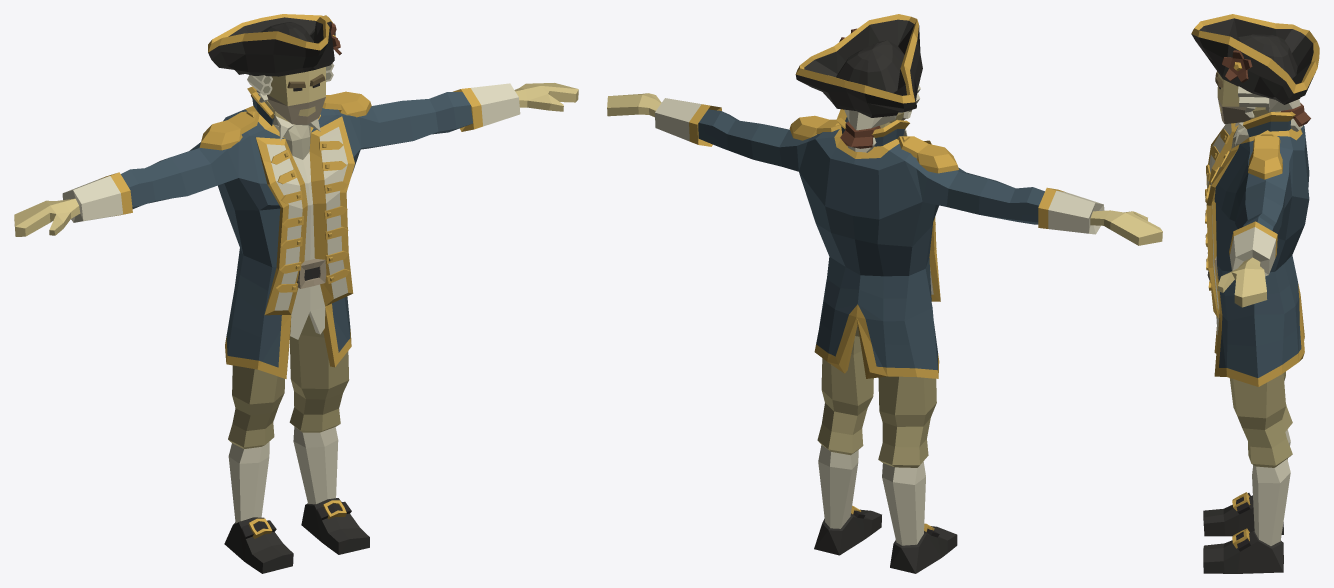
The model's file is CapitanSoldier.fbx.
3 renders of one model, left to right at view 1: azimuth 30°, elevation 25°; view 2: azimuth 150°, elevation 25°; view 3: azimuth 270°, elevation 25°, orthographic.
Parts seen in each view (by area): view 1: CapitanSoldier; view 2: CapitanSoldier; view 3: CapitanSoldier.
Part boxes in pixels (<box>): CapitanSoldier: <box>14,14,578,573</box>; CapitanSoldier: <box>607,14,1162,573</box>; CapitanSoldier: <box>1191,14,1319,573</box>.
Bounding box in the file's own units: 205 × 182 × 40.67.
